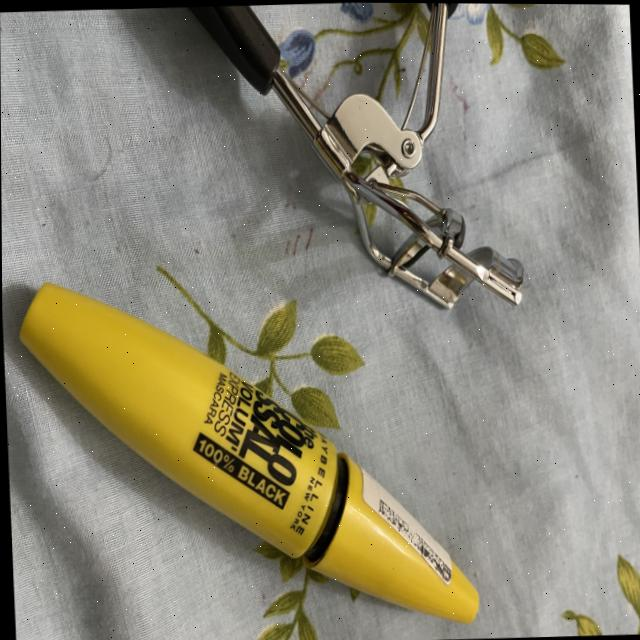eyelash curler: (192, 1, 552, 340)
mascara: (2, 258, 502, 640)
